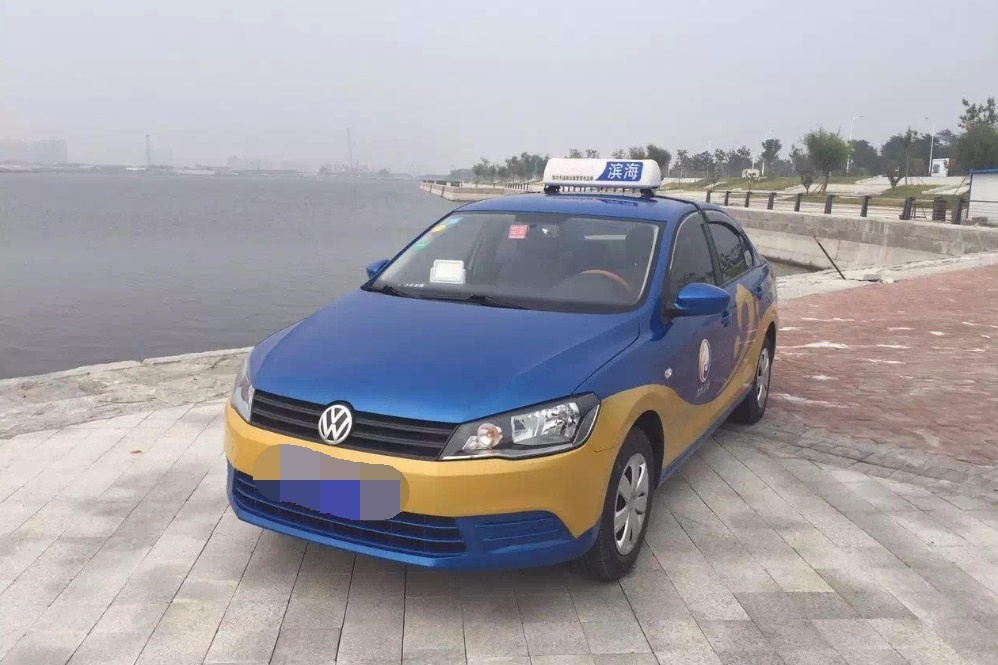taxi: (223, 138, 787, 600)
